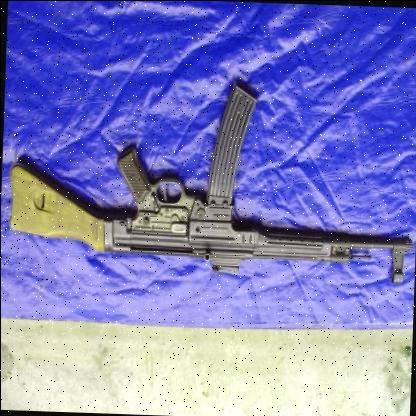rifle: (9, 71, 414, 301)
